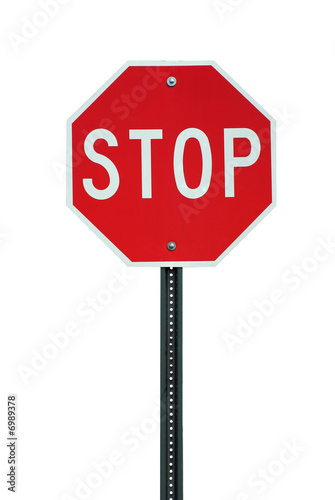StopSign: (65, 59, 276, 267)
